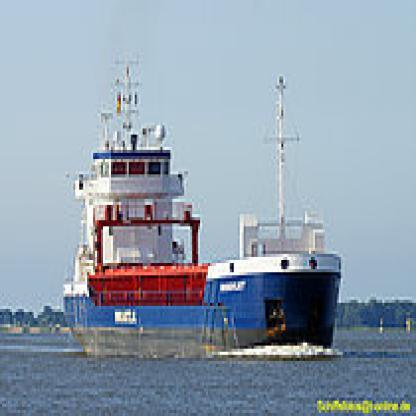Container Ship: (60, 50, 343, 359)
